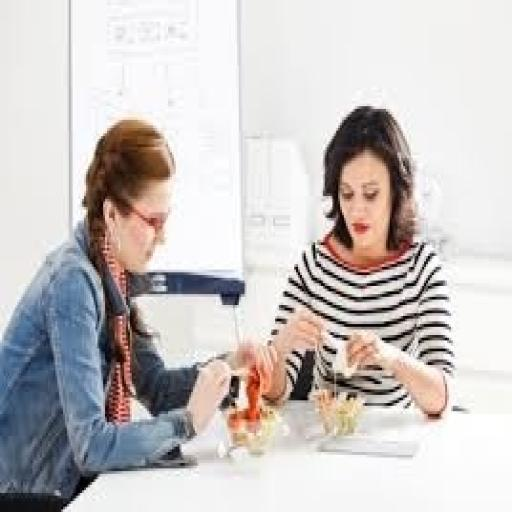eating: (0, 114, 273, 510), (258, 101, 458, 422)
